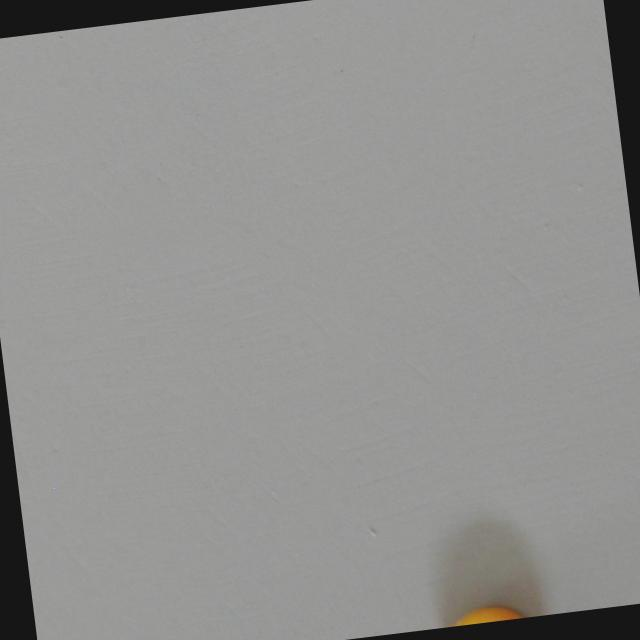dañado: (429, 593, 547, 629)
